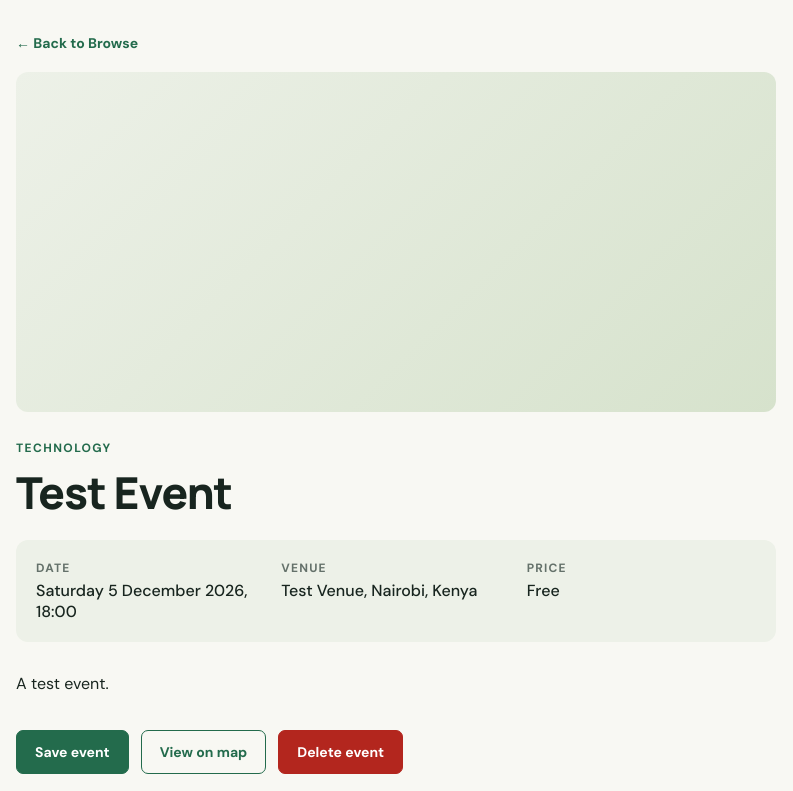
Test: EventDetails page › cancel keeps the event
The image size is (793, 791).
Click the button "Delete event". click: (341, 752)
box: [278,730,403,774]
(page scrolled)
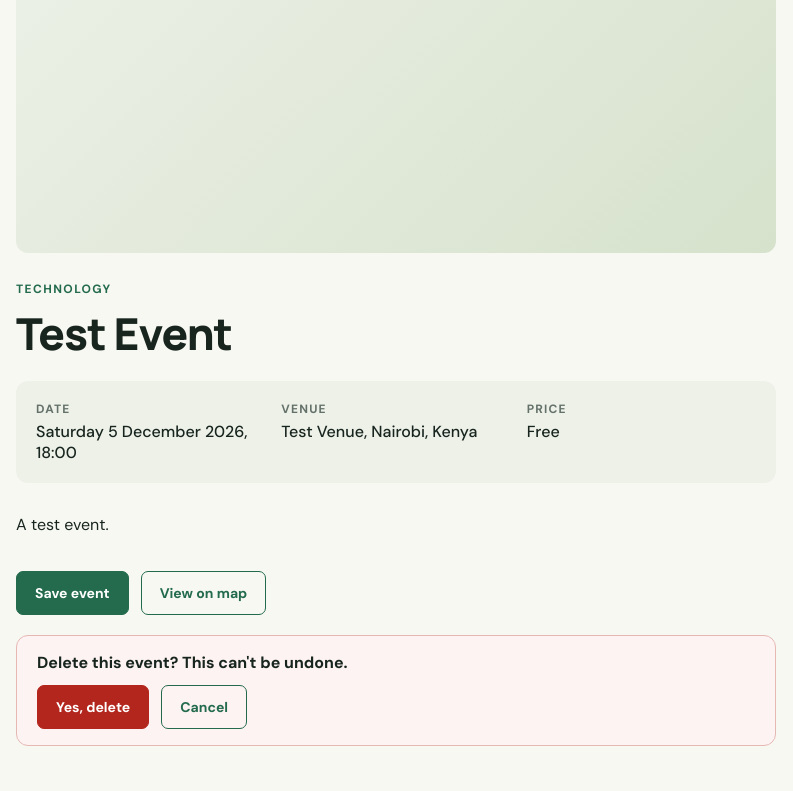
Click the button "Cancel". click: (204, 707)
box: [161,685,247,729]
(page scrolled)
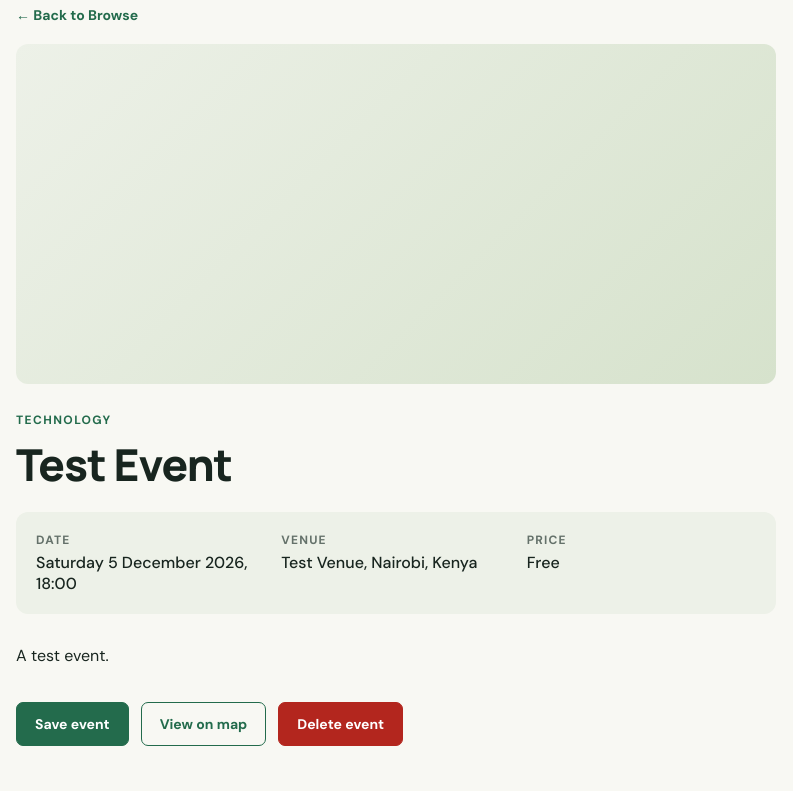
Expected: the heading "Test Event" is shown, [16,434,232,494]
Result: the text "can't be undone" is gone
